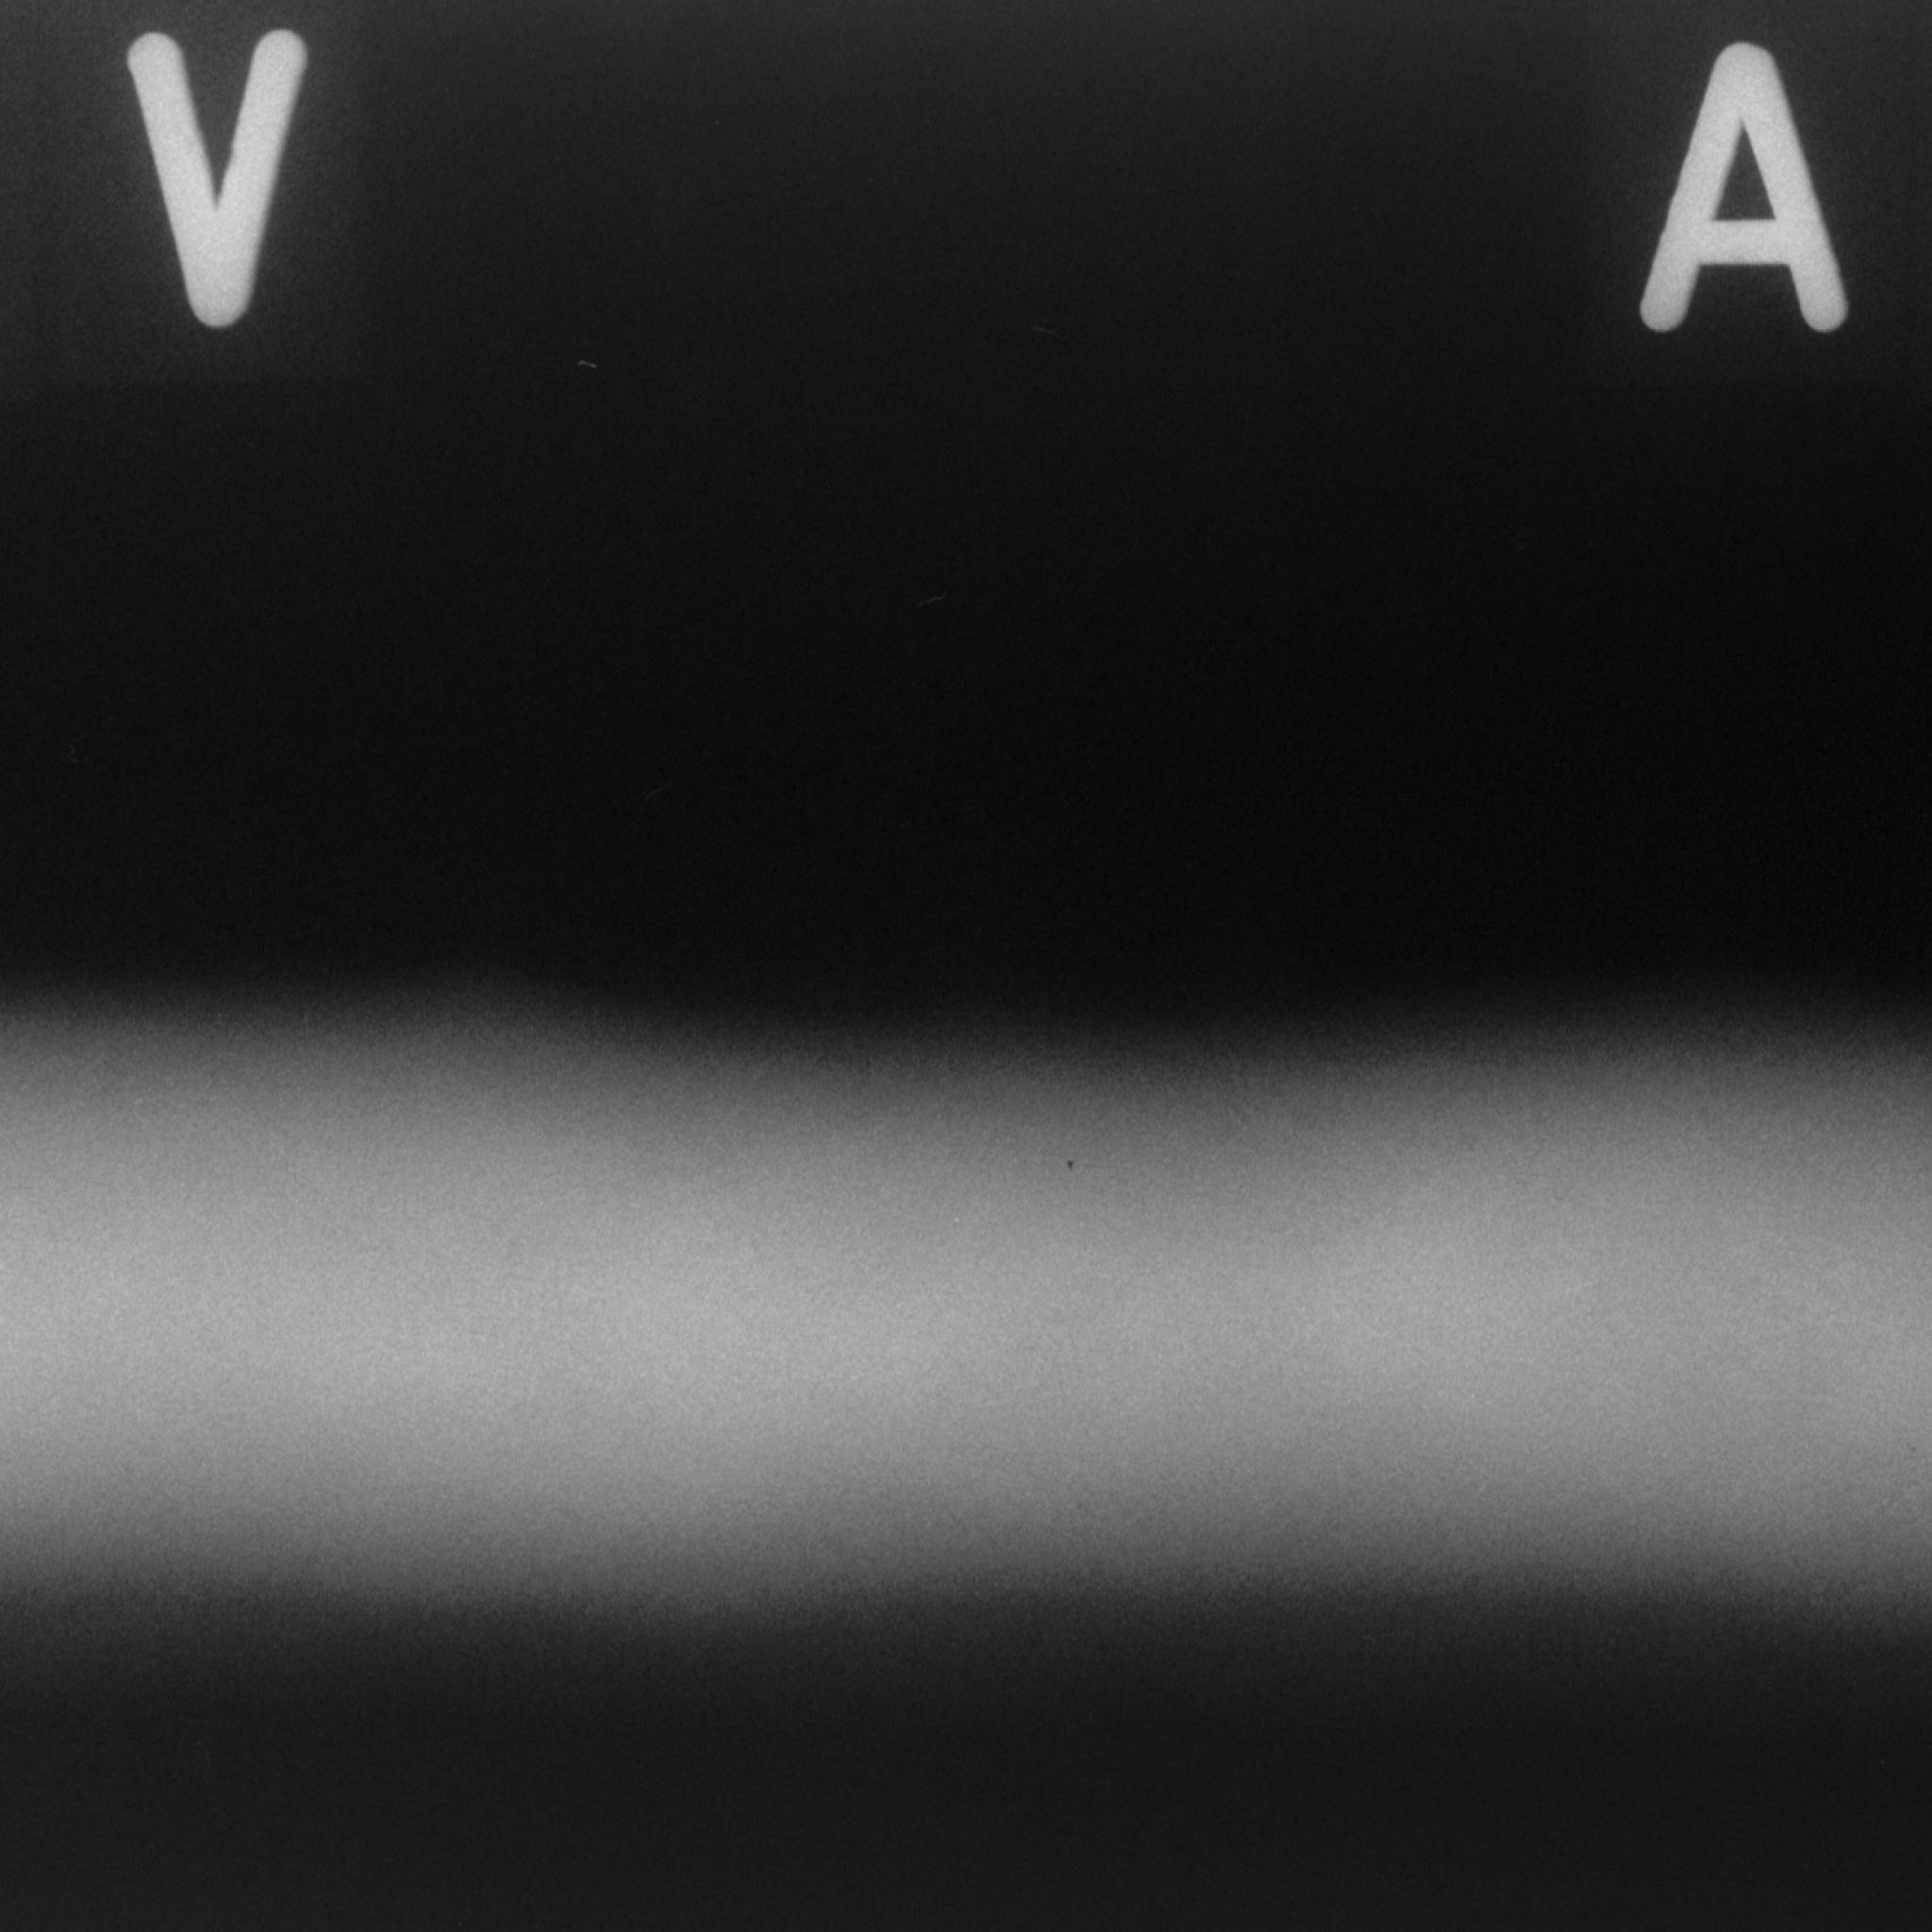PO: (1051, 1145, 1088, 1182)
